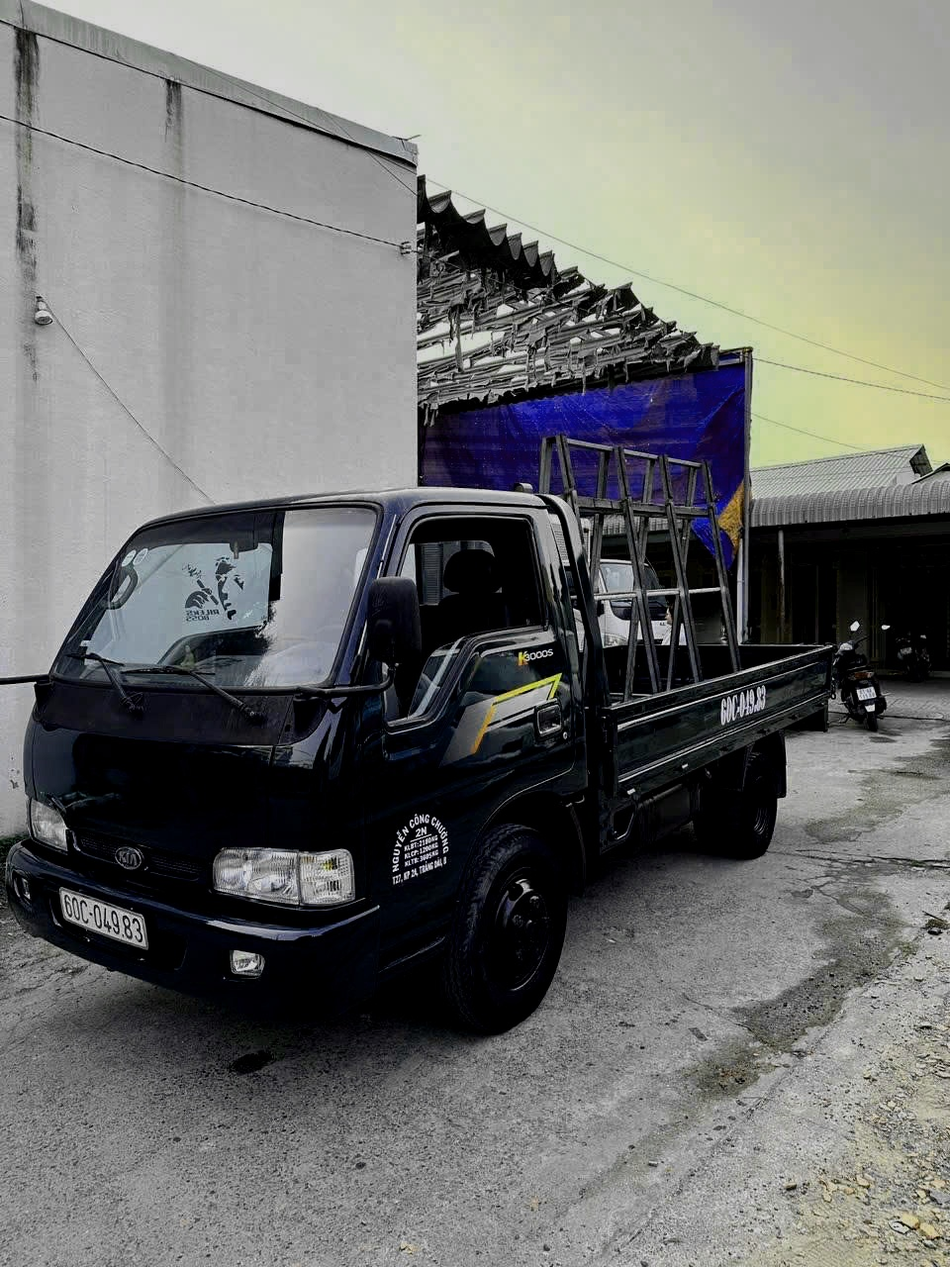Bien-so: (39, 881, 154, 956)
